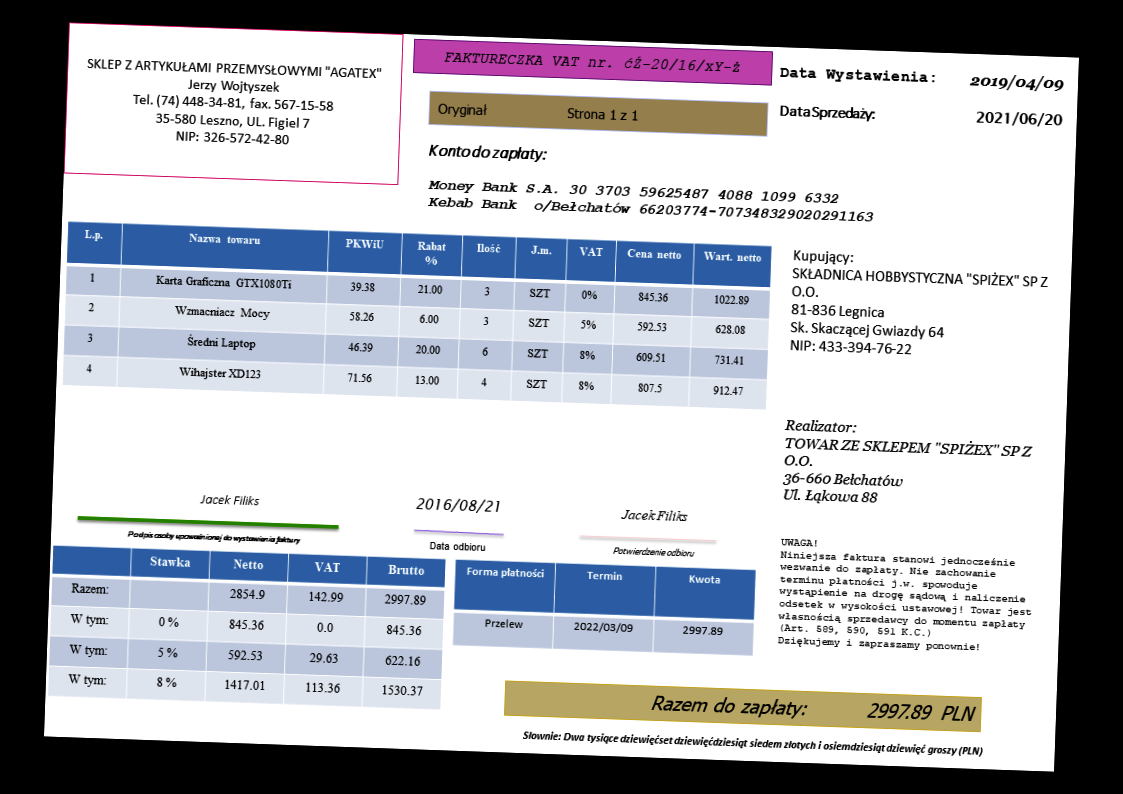Table: (61, 219, 774, 411), (46, 543, 447, 712), (451, 556, 758, 657)
TextBox: (774, 534, 1037, 657), (786, 245, 1054, 365), (80, 52, 384, 152), (779, 416, 1036, 513), (424, 175, 876, 226), (519, 726, 987, 761), (647, 690, 978, 727), (441, 48, 744, 76), (435, 98, 641, 127), (125, 526, 302, 549), (777, 62, 937, 87), (424, 138, 550, 166), (775, 100, 877, 125), (411, 493, 503, 518), (966, 73, 1068, 95), (974, 107, 1063, 131), (617, 503, 691, 526), (609, 543, 698, 561), (197, 490, 263, 510), (427, 538, 488, 554)
